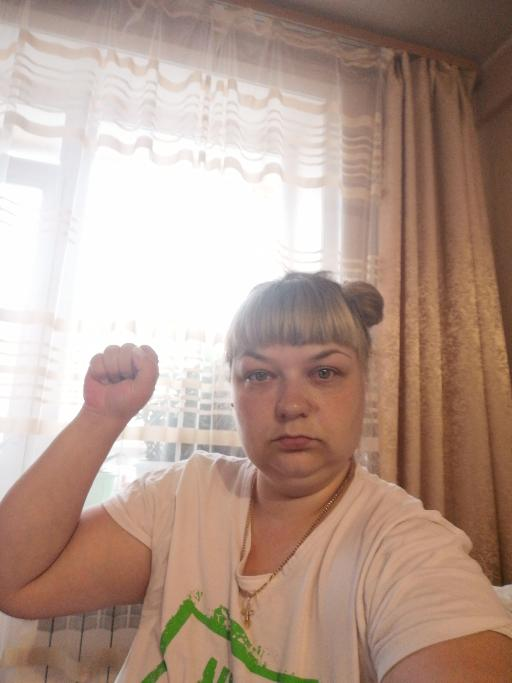fist: (81, 338, 161, 420)
